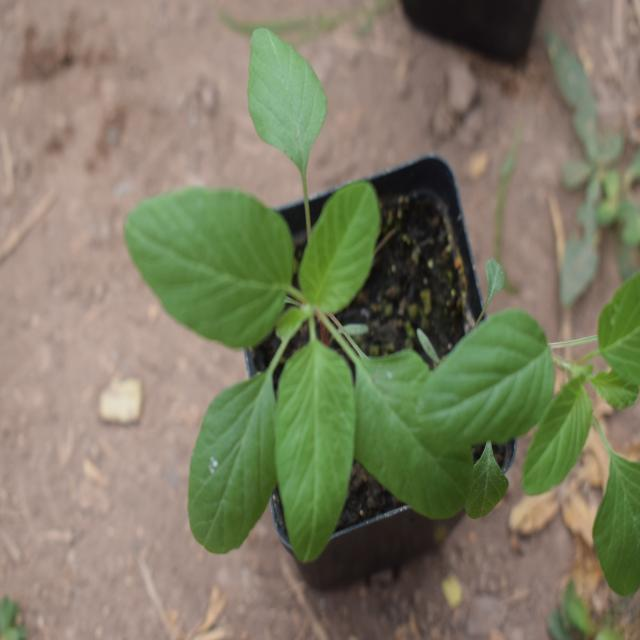pigweed: (121, 34, 449, 543)
